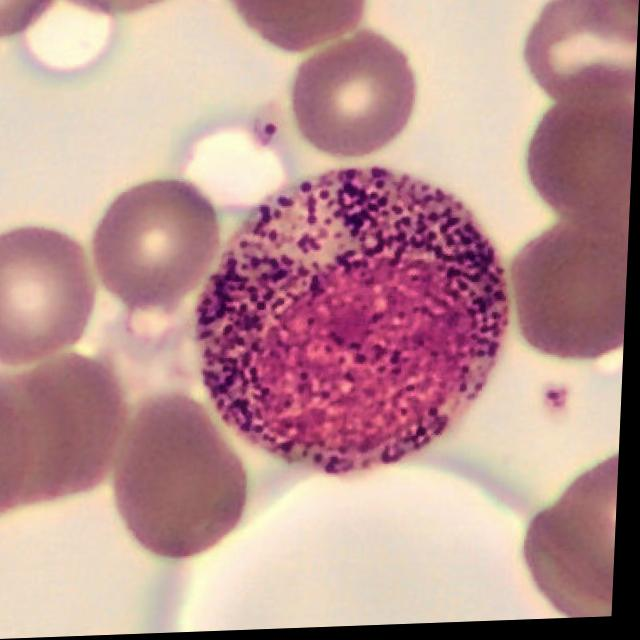Promielocito: (201, 171, 510, 480)
